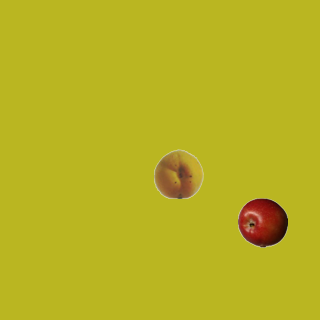Apple Braeburn: (237, 197, 287, 247)
Peach 2: (153, 148, 203, 198)
